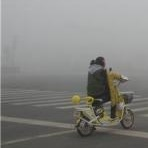person: (86, 56, 119, 120)
